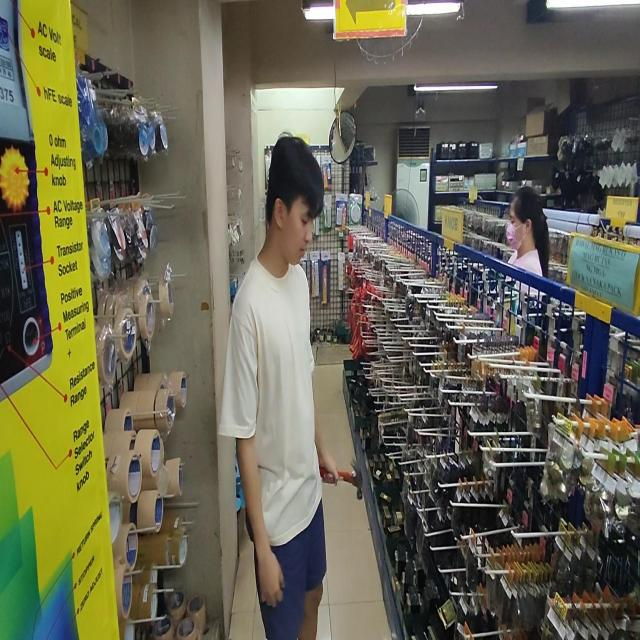hammer: (319, 458, 363, 500)
